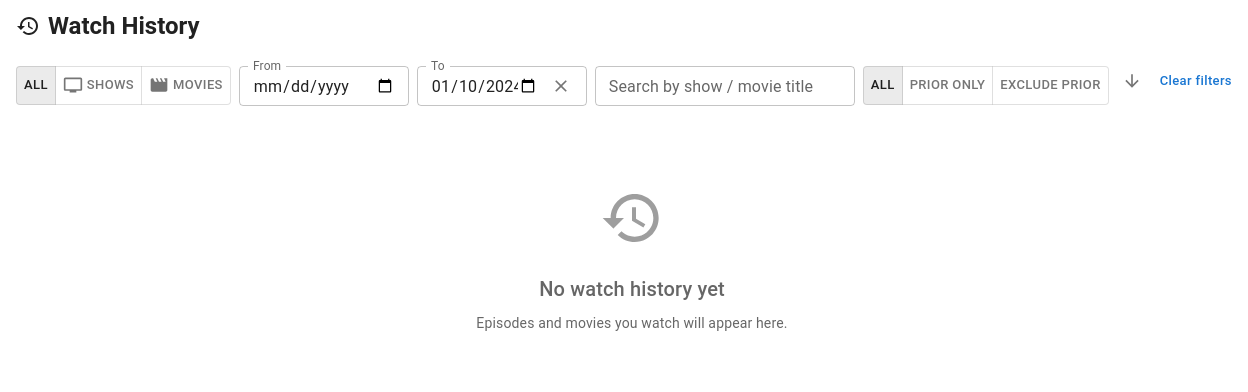
Test case: WatchHistory › date range validation › shows a date error when dateFrom is set to a date after the current dateTo
Step 1. Type "2024-01-15" into the date field labelled "From" → [324, 86], box [239, 66, 409, 106]
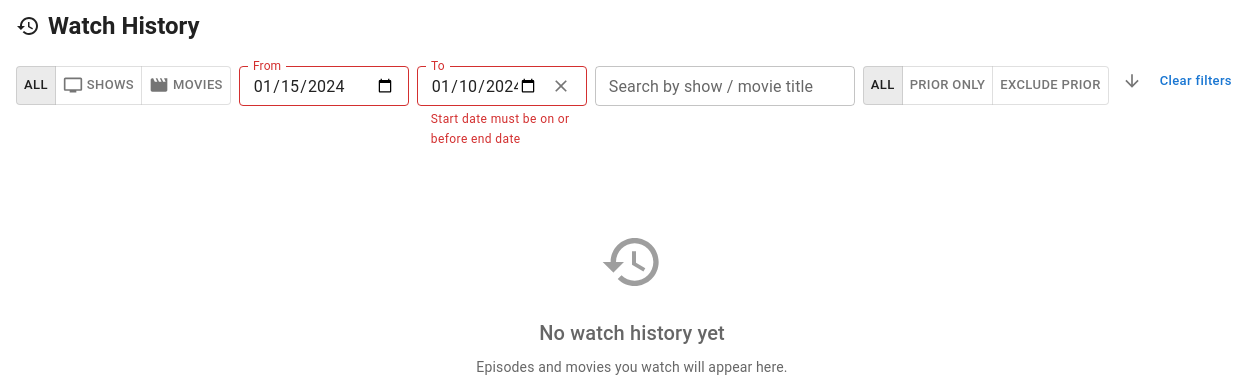
Expected: the text "Start date must be on or before end date" is shown, [431, 110, 573, 150]
